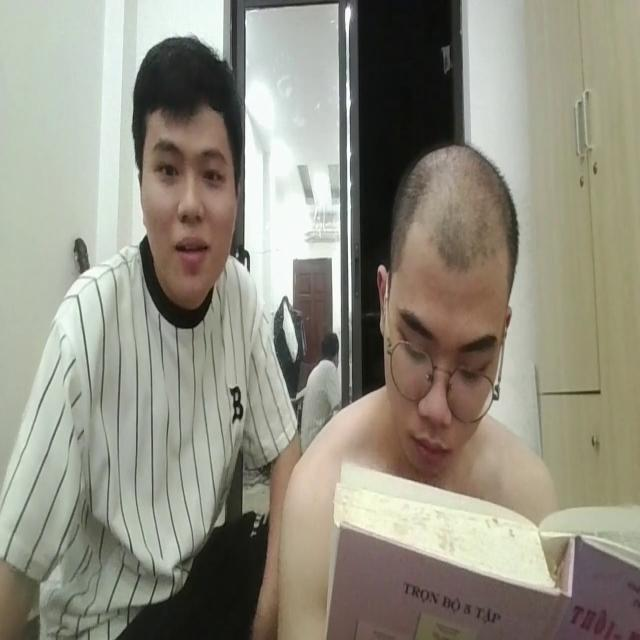book: (323, 448, 640, 640)
extra_person: (6, 24, 294, 640)
student: (278, 143, 560, 640)
